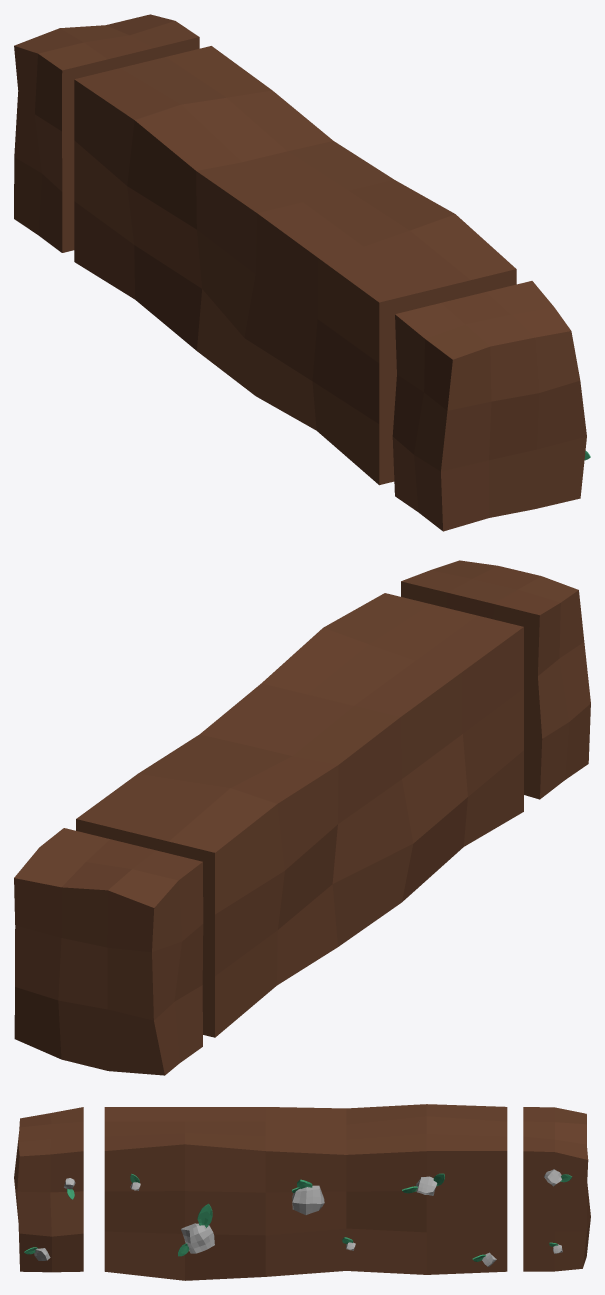
Rendered from tierra.fbx.
3 renders of one model, top to bottom at view 1: azimuth 30°, elevation 25°; view 2: azimuth 150°, elevation 25°; view 3: azimuth 270°, elevation 25°, orthographic. The views are drawn at different scales.
Parts seen in each view (by area): view 1: Cube, Cube.001, Cube.002; view 2: Cube, Cube.002, Cube.001; view 3: Cube, Cube.001, Cube.002, Cube.004, Cube.003, Cube.005, Plane.003.
Part boxes in pixels (box(x1,y1,x2,y2)): Cube: box(74, 46, 516, 485); Cube.001: box(392, 281, 586, 531); Cube.002: box(14, 14, 199, 252); Cube: box(76, 593, 523, 1037); Cube.002: box(14, 828, 203, 1075); Cube.001: box(401, 560, 590, 799); Cube: box(104, 1104, 507, 1280); Cube.001: box(14, 1107, 83, 1272); Cube.002: box(523, 1107, 590, 1271); Cube.004: box(181, 1223, 214, 1253); Cube.003: box(292, 1185, 324, 1214); Cube.005: box(416, 1176, 437, 1195); Plane.003: box(197, 1203, 212, 1227).
Bounding box in the file's own units: 424 × 496 × 1825.
